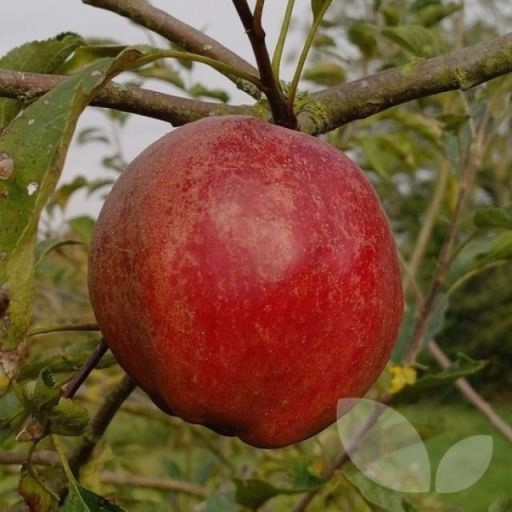fruit: (333, 154, 461, 512)
